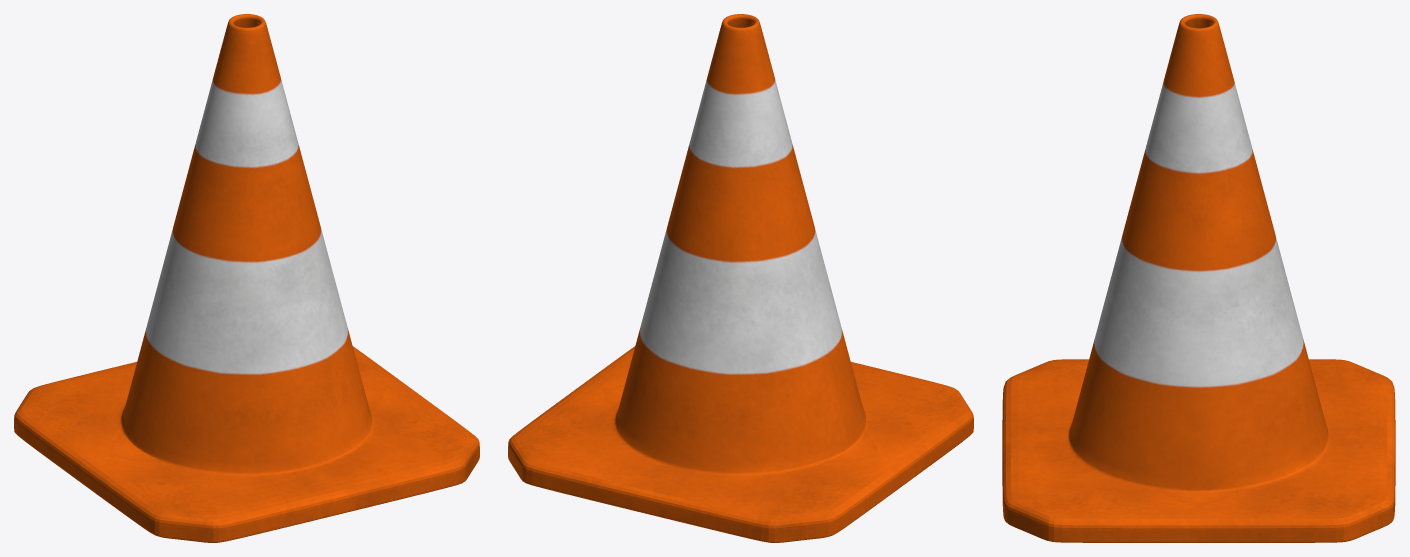
The model's file is traffic_cone.glb.
3 renders of one model, left to right at view 1: azimuth 30°, elevation 25°; view 2: azimuth 150°, elevation 25°; view 3: azimuth 270°, elevation 25°, orthographic. The views are drawn at different scales.
Parts seen in each view (by area): view 1: Cone.001; view 2: Cone.001; view 3: Cone.001.
Boxes of the visible parts, box(x1,y1,x2,y2) form: Cone.001: box(14, 14, 479, 542); Cone.001: box(508, 14, 973, 542); Cone.001: box(1002, 14, 1395, 542).
Size of the model in its own units: 0.42 by 0.5188 by 0.42.
1 material, 1 textured.
